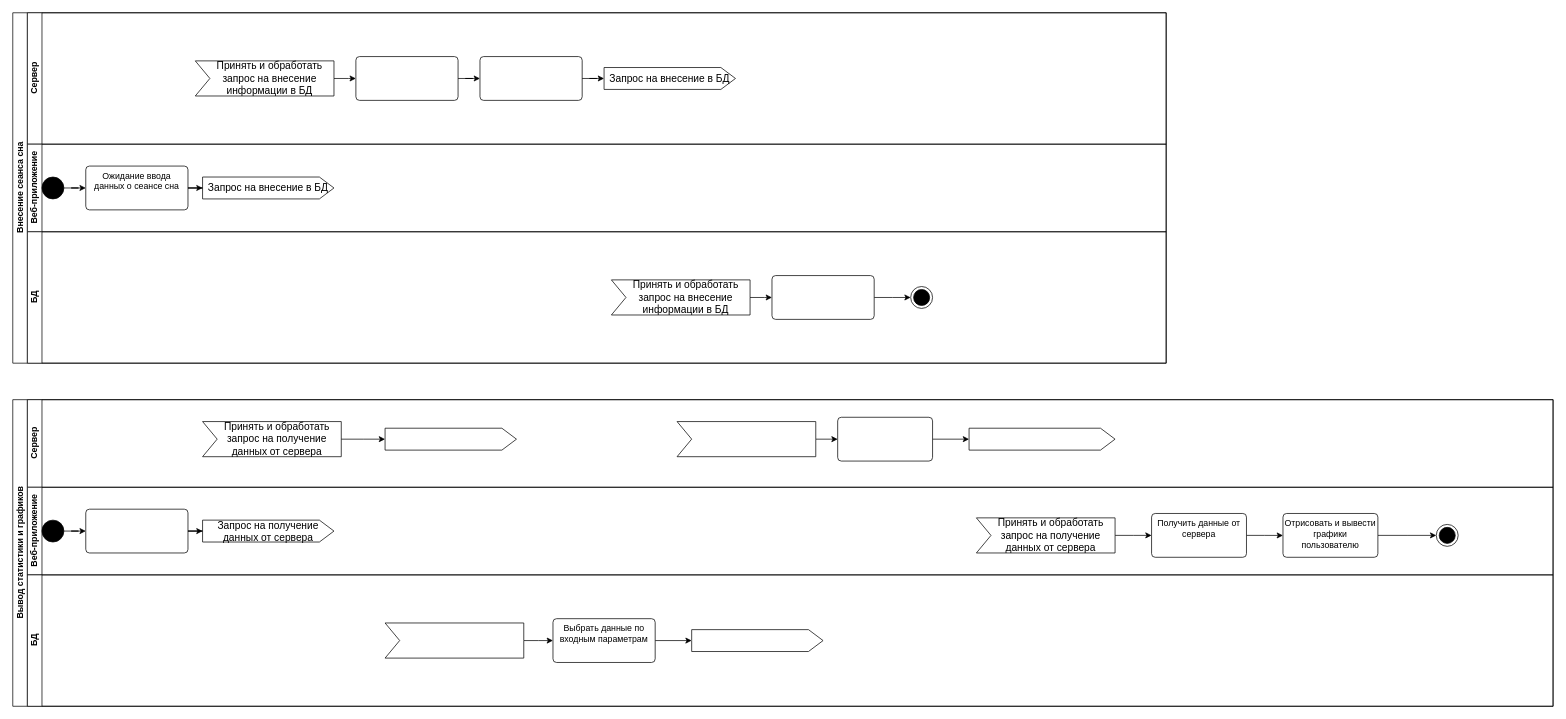
Image size: 1566x719. Some labels were removed from this diagram. Here are the shapes that lost their labels. From the top down, the box of each, then its label:
(355, 56, 458, 100): Проверить аутентификацию и внесенные данные
(479, 56, 582, 100): Рассчитать продолжительность сна
(771, 275, 874, 319): Сохранить полученные данные
(384, 427, 516, 450): Запрос на получение данных из БД
(676, 421, 816, 457): Принять и обработать запрос на получение данных сервером
(837, 417, 933, 461): Получить данные из БД
(968, 427, 1115, 450): Запрос на получение данных веб-приложением
(85, 508, 188, 553): Ожидание запроса на отображение статистики и графиков
(384, 622, 524, 658): Принять и обработать запрос на получение данных из БД
(691, 629, 823, 652): Запрос на получение данных сервером
